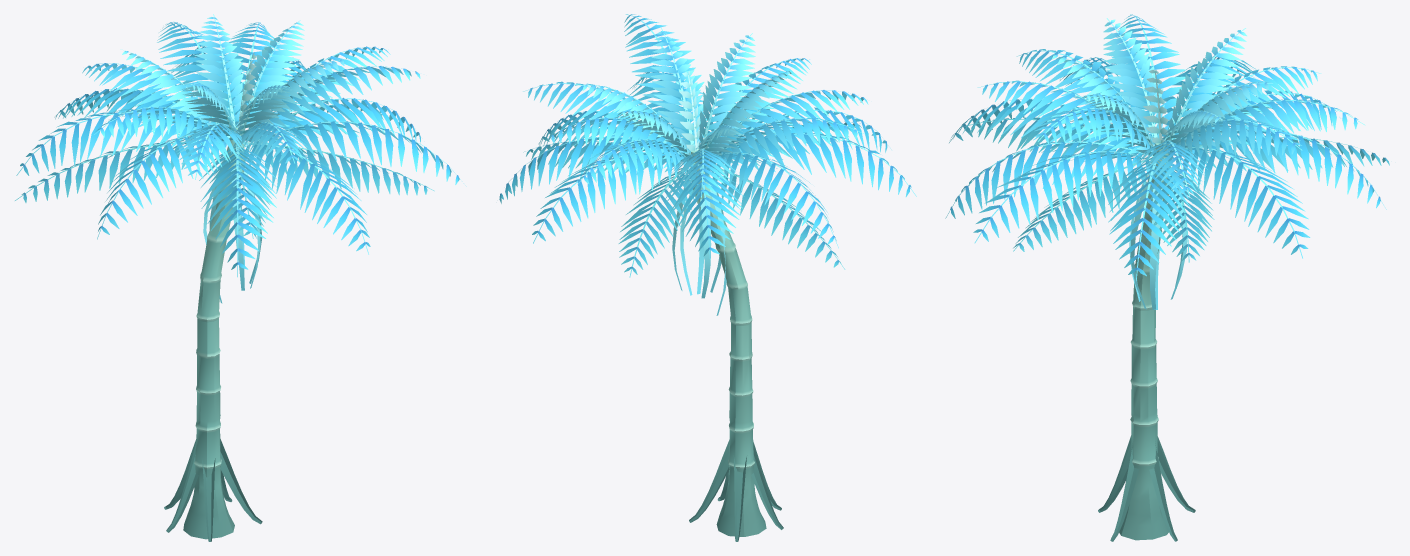
File: alien_tree_lod0.glb
3 renders of one model, left to right at view 1: azimuth 30°, elevation 25°; view 2: azimuth 150°, elevation 25°; view 3: azimuth 270°, elevation 25°, orthographic. The views are drawn at different scales.
Parts seen in each view (by area): view 1: AlienTree; view 2: AlienTree; view 3: AlienTree.
Boxes of the visible parts, x1,y1,x2,y2 form: AlienTree: (15, 14, 466, 541); AlienTree: (499, 14, 916, 541); AlienTree: (945, 14, 1389, 541).
Bounding box in the file's own units: 3.83 × 4.7 × 3.89.
